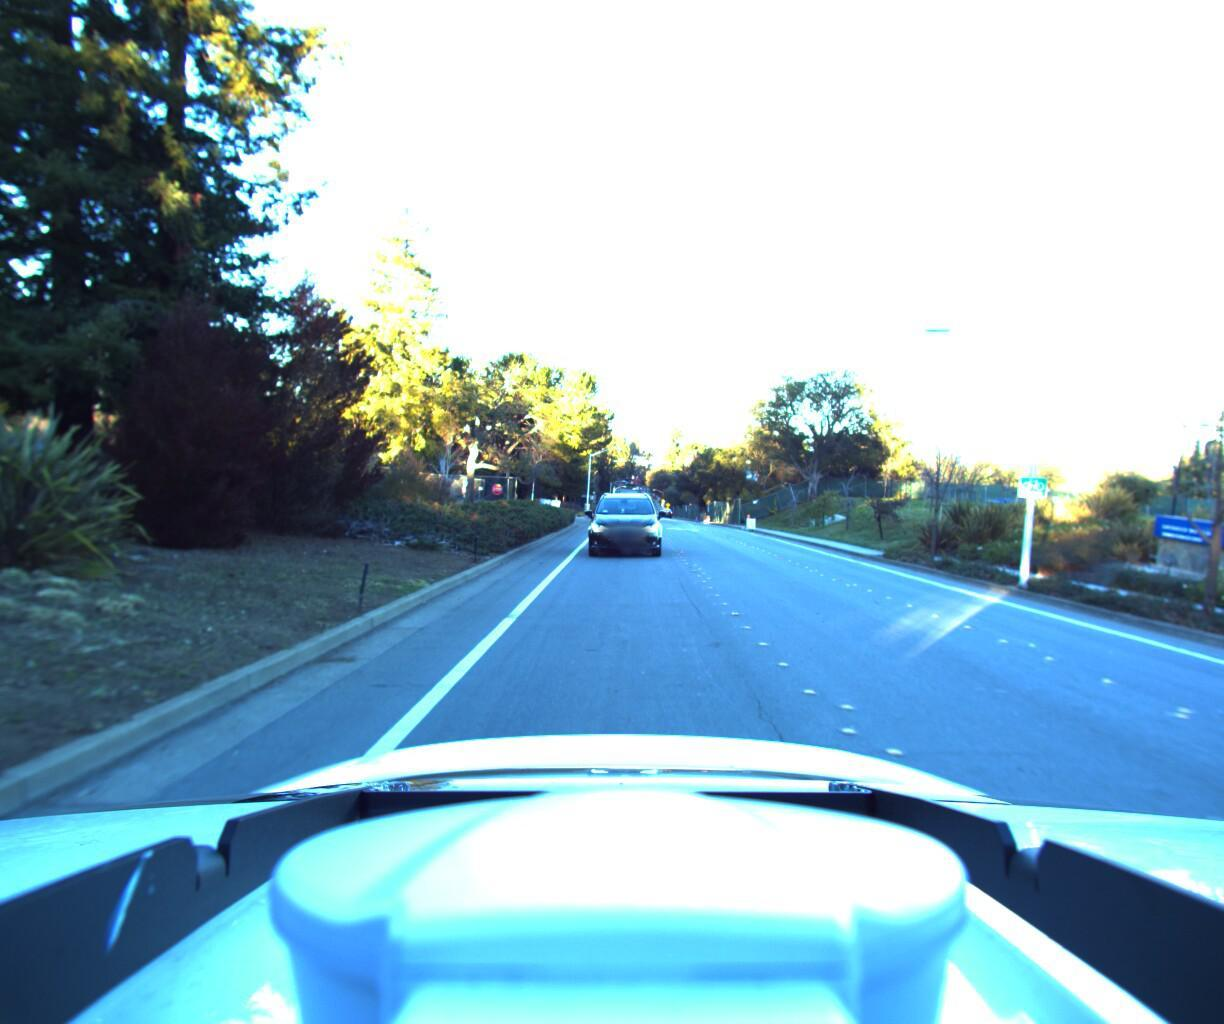car: (576, 481, 663, 565)
